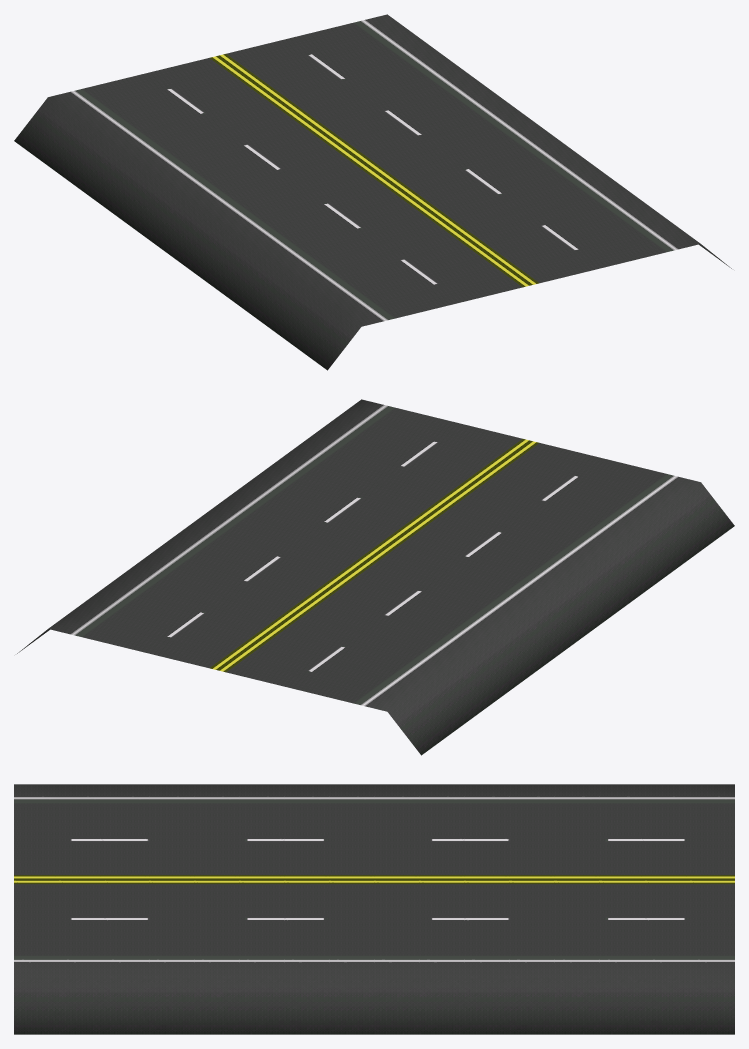
The model's file is roadtest.gltf.
The picture shows the model from 3 angles, top to bottom: view 1: azimuth 30°, elevation 25°; view 2: azimuth 150°, elevation 25°; view 3: azimuth 270°, elevation 25°; orthographic projection. The views are drawn at different scales.
Visible parts, largest first — view 1: road_mesh; view 2: road_mesh; view 3: road_mesh.
Part boxes in pixels (left/top/right/bottom): road_mesh: left=14, top=14, right=731, bottom=370; road_mesh: left=17, top=399, right=734, bottom=755; road_mesh: left=14, top=784, right=734, bottom=1034.
Bounding box in the file's own units: 24 × 2 × 32.
Materials: 1 (1 with a texture image).
